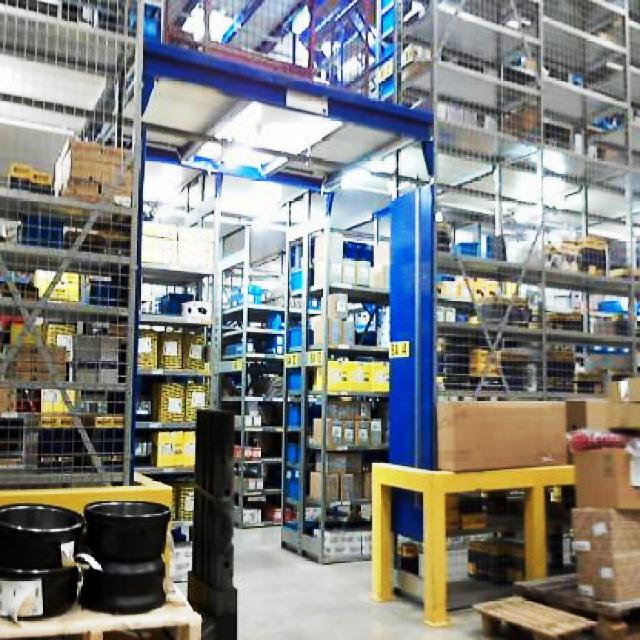ground: (165, 522, 638, 638)
pallet: (393, 0, 640, 395), (369, 369, 638, 638), (214, 221, 387, 563), (0, 169, 134, 485), (368, 458, 575, 626), (0, 574, 202, 638), (471, 569, 638, 638), (471, 592, 597, 638)
